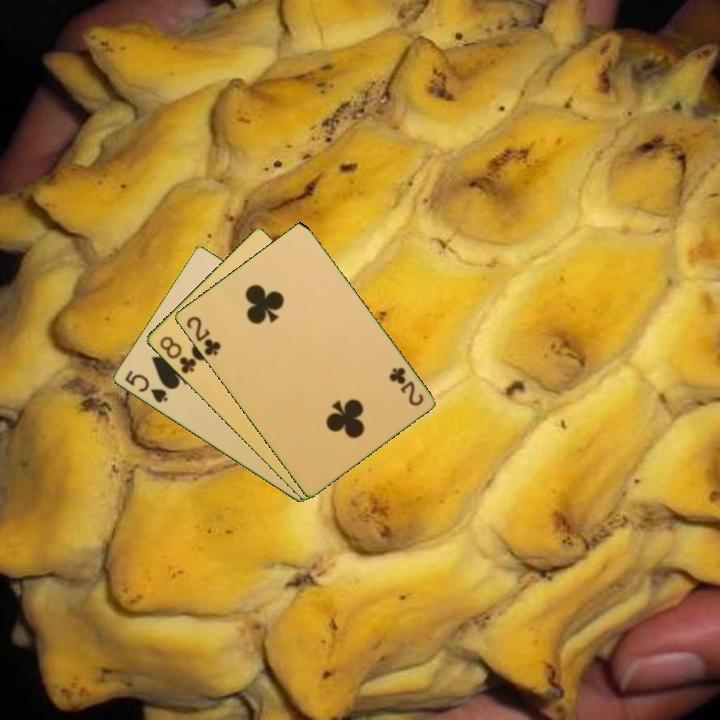2c: (182, 312, 224, 359), (385, 363, 426, 409)
5s: (121, 367, 171, 406)
8c: (155, 333, 199, 377)
